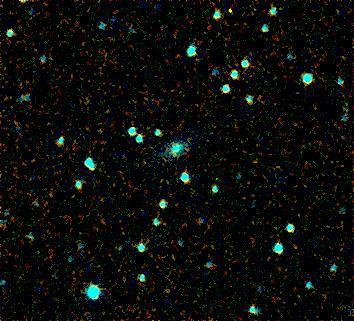star: (279, 232, 309, 262)
